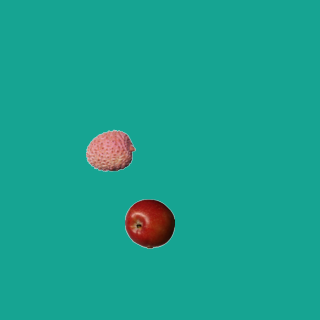Apple Braeburn: (124, 198, 174, 248)
Lychee: (85, 125, 135, 175)
